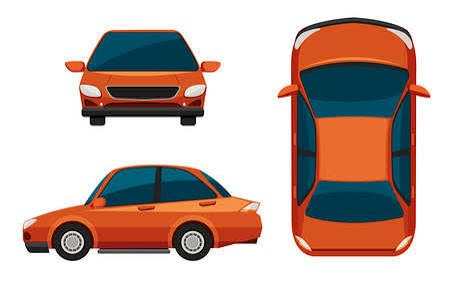car: (31, 166, 252, 263)
